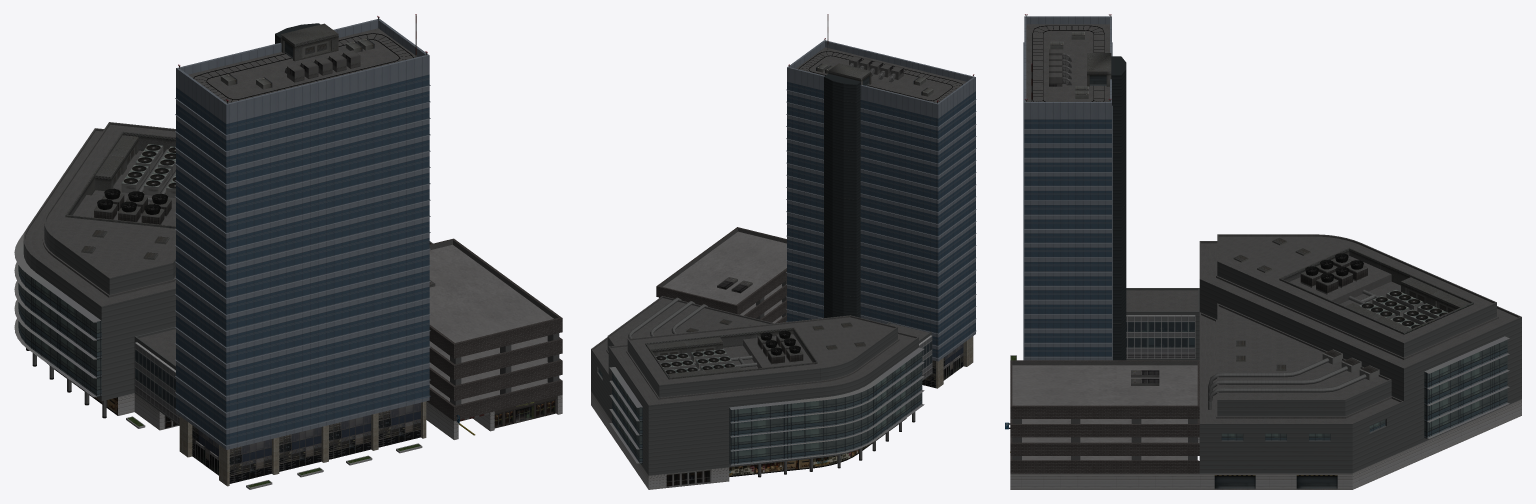
The picture shows the model from 3 angles, left to right: view 1: azimuth 30°, elevation 25°; view 2: azimuth 150°, elevation 25°; view 3: azimuth 270°, elevation 25°; orthographic projection. The views are drawn at different scales.
Visible parts, largest first — view 1: bina.011; view 2: bina.011; view 3: bina.011.
Part boxes in pixels (x1=…): bina.011: x1=14, y1=14, x2=562, y2=489; bina.011: x1=591, y1=14, x2=976, y2=489; bina.011: x1=1005, y1=14, x2=1521, y2=489.
Bounding box in the file's own units: 22.07 × 24.78 × 31.43.
1 material, 1 textured.
